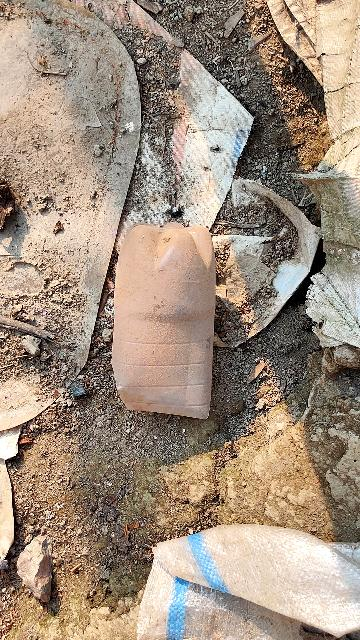bottle: (101, 218, 226, 423)
